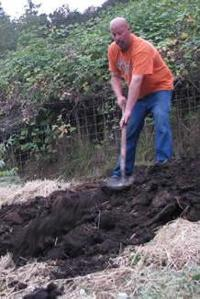person: (108, 17, 175, 179)
